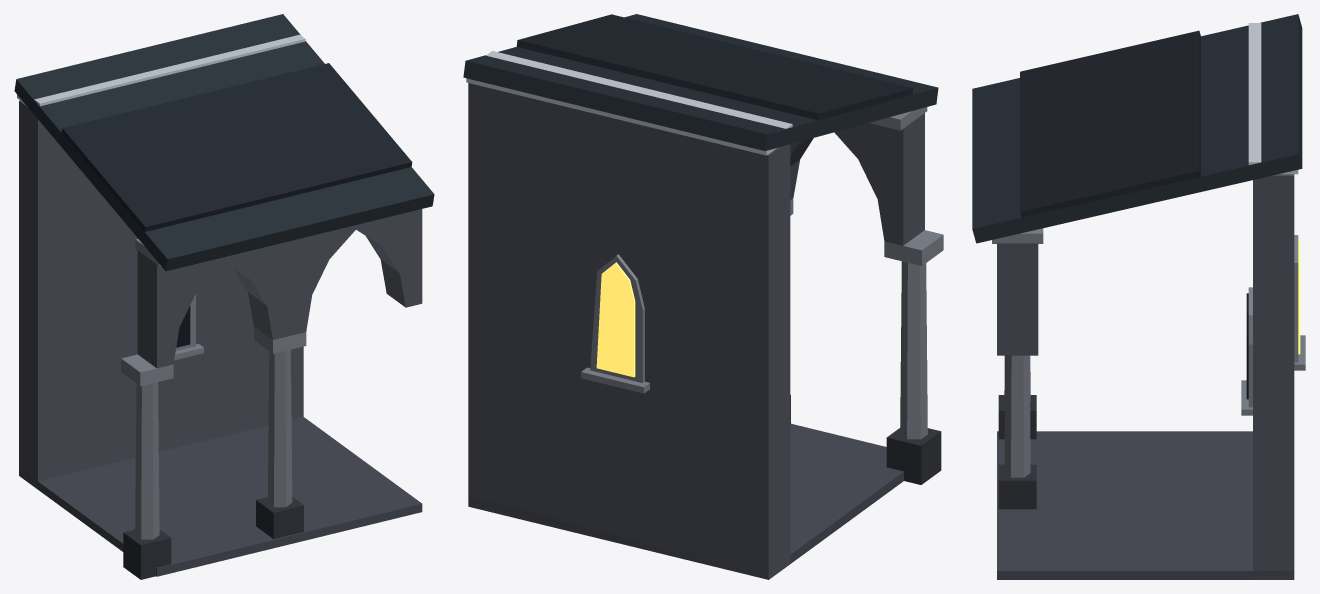
File: gothic_arcade.glb
The picture shows the model from 3 angles, left to right: view 1: azimuth 30°, elevation 25°; view 2: azimuth 150°, elevation 25°; view 3: azimuth 270°, elevation 25°; orthographic projection. The views are drawn at different scales.
Visible parts, largest first — view 1: gothic_arcade; view 2: gothic_arcade; view 3: gothic_arcade.
Part boxes in pixels (<box>): gothic_arcade: <box>14,14,434,579</box>; gothic_arcade: <box>463,14,943,579</box>; gothic_arcade: <box>972,14,1305,579</box>.
Bounding box in the file's own units: 4.26 × 5.69 × 4.04.
